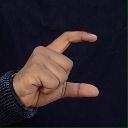hand: (11, 30, 100, 109)
